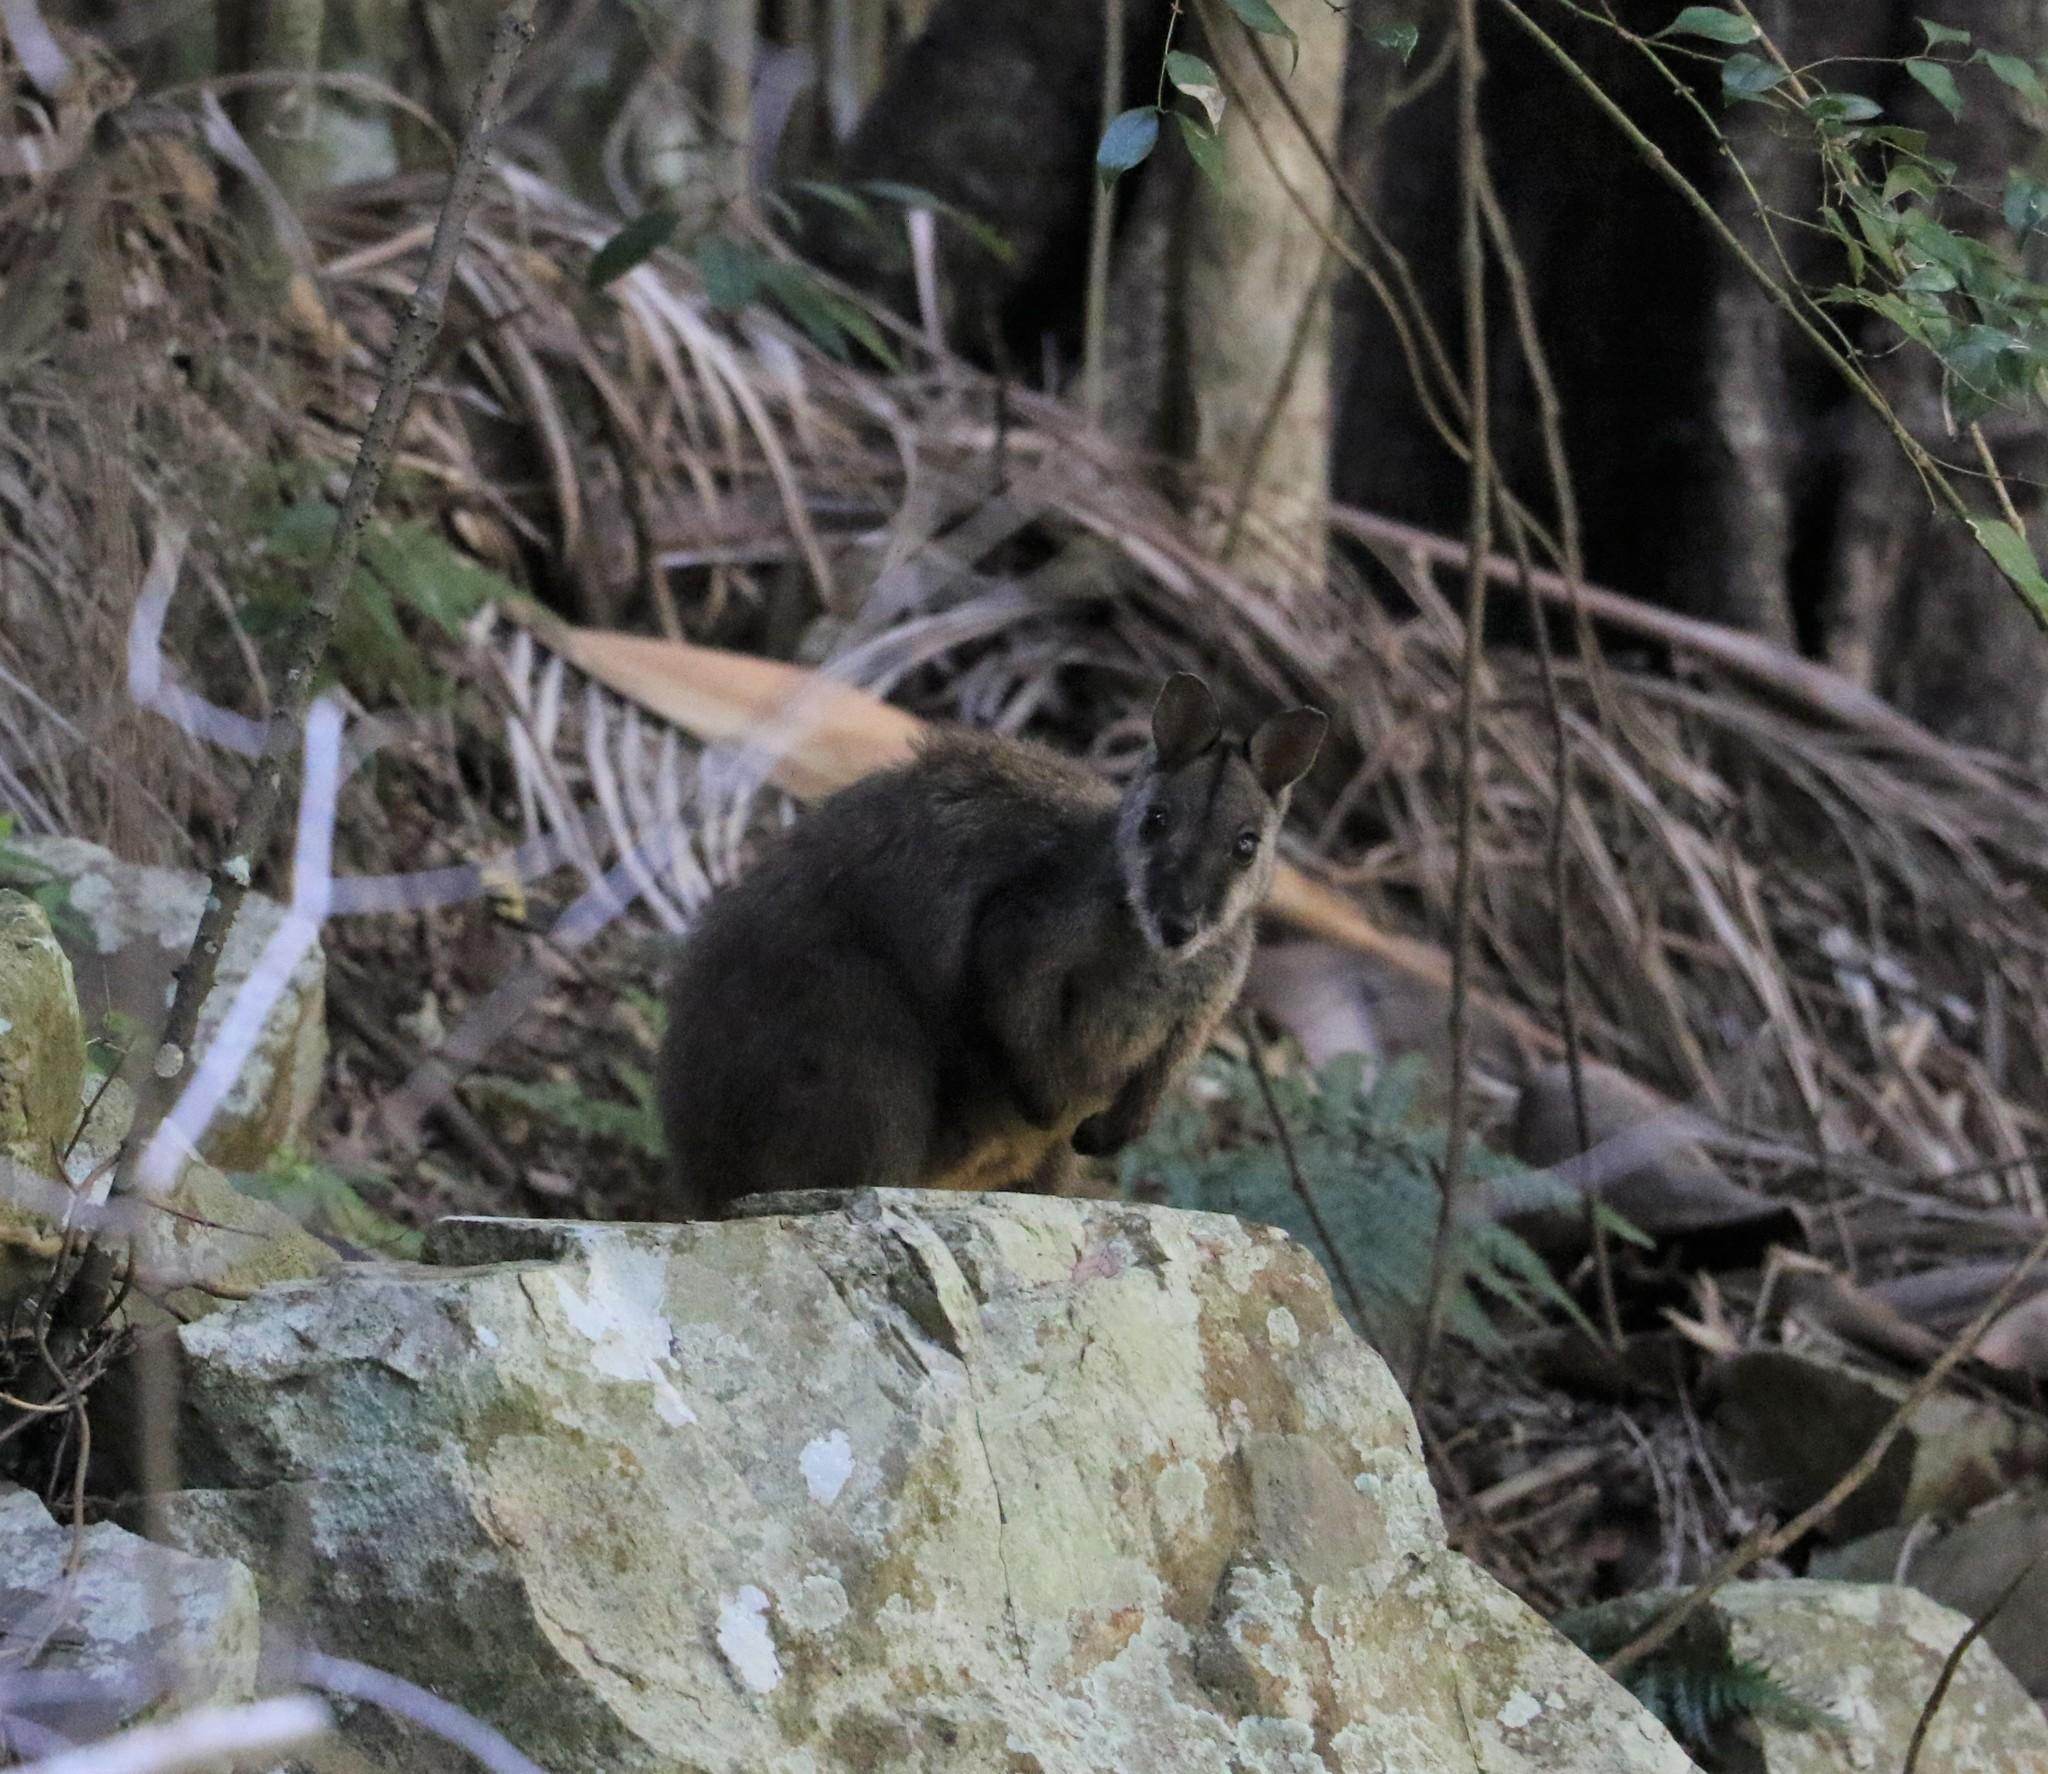Brush-tailed rock-wallaby: (596, 672, 1337, 1248)
